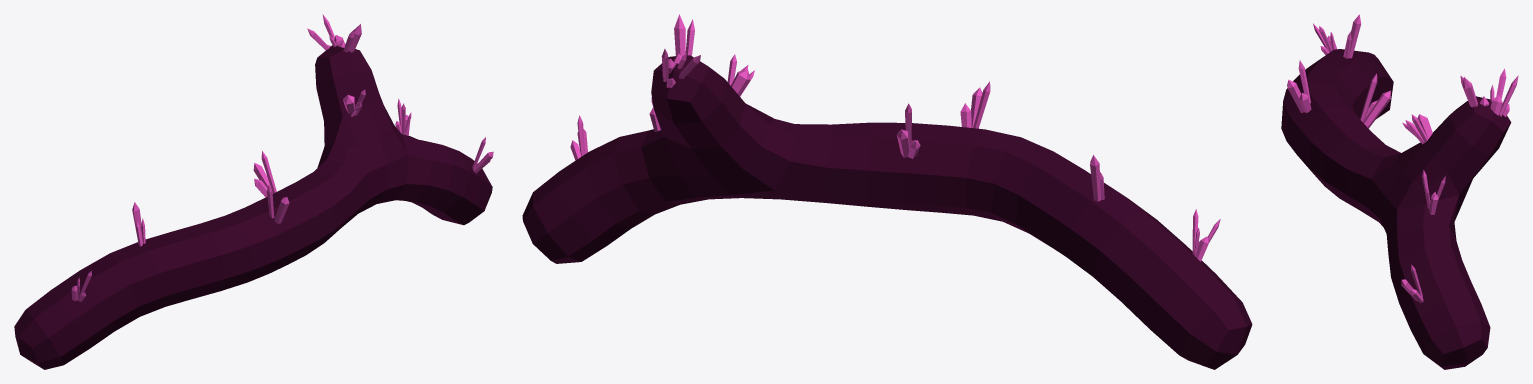
File: roots_7.fbx
The picture shows the model from 3 angles, left to right: view 1: azimuth 30°, elevation 25°; view 2: azimuth 150°, elevation 25°; view 3: azimuth 270°, elevation 25°; orthographic projection. The views are drawn at different scales.
Visible parts, largest first — view 1: roots_7; view 2: roots_7; view 3: roots_7.
Boxes of the visible parts, x1,y1,x2,y2 form: roots_7: [14, 14, 493, 369]; roots_7: [522, 14, 1252, 369]; roots_7: [1281, 14, 1518, 369].
Bounding box in the file's own units: 394 × 160 × 143.
